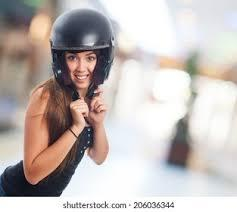helmet: (30, 12, 130, 121)
